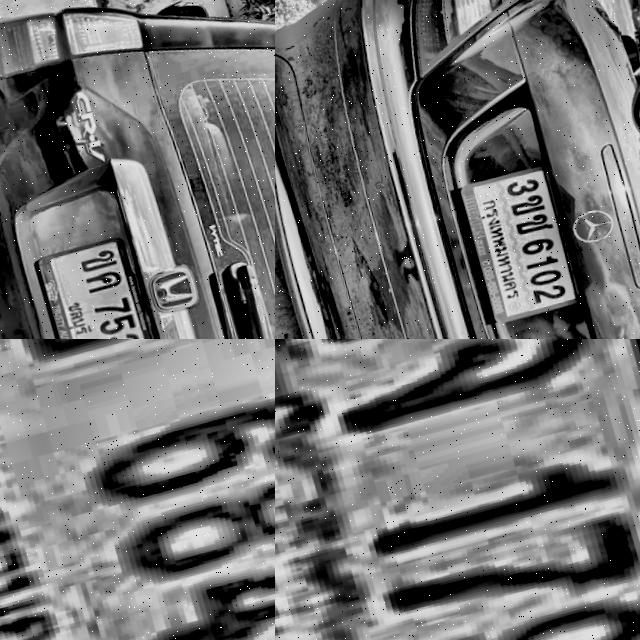license-plate: (275, 339, 640, 640), (0, 339, 275, 640), (439, 163, 585, 335), (24, 239, 154, 339)
